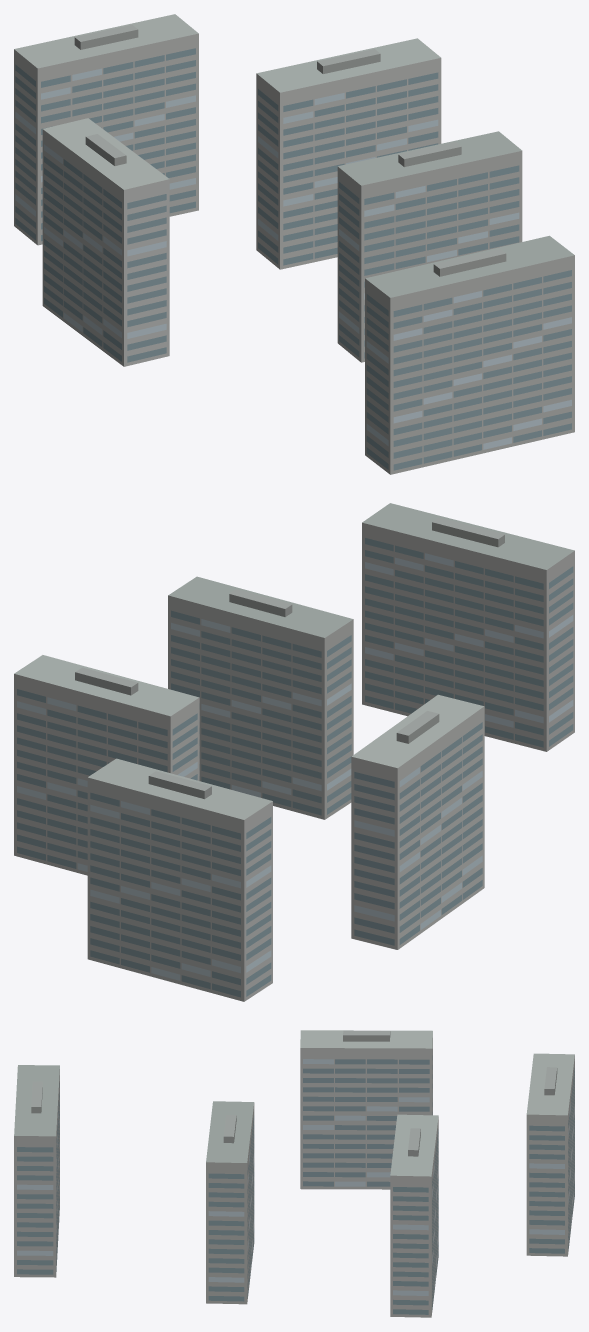
File: apt-a13922910.glb
3 views of the same model, one above another, from view 1: azimuth 30°, elevation 25°; view 2: azimuth 150°, elevation 25°; view 3: azimuth 270°, elevation 25° (orthographic). The views are drawn at different scales.
Parts seen in each view (by area): view 1: apt-a13922910; view 2: apt-a13922910; view 3: apt-a13922910.
Boxes of the visible parts, x1,y1,x2,y2 form: apt-a13922910: (14, 14, 574, 474); apt-a13922910: (14, 503, 574, 1001); apt-a13922910: (14, 1030, 574, 1317).
Size of the model in its own units: 102 by 47.81 by 165.
